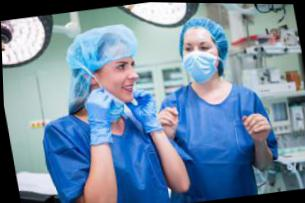OK: (179, 32, 222, 85)
WRONG: (97, 50, 143, 107)
